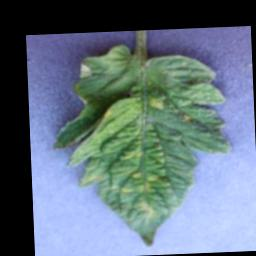Leaf_Mold: (47, 40, 235, 250)
